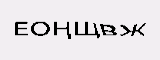В: (99, 23, 116, 37)
Е: (12, 20, 30, 36)
Ж: (118, 22, 147, 38)
О: (30, 20, 50, 38)
Щ: (72, 21, 100, 40)
Ң: (53, 20, 71, 40)
